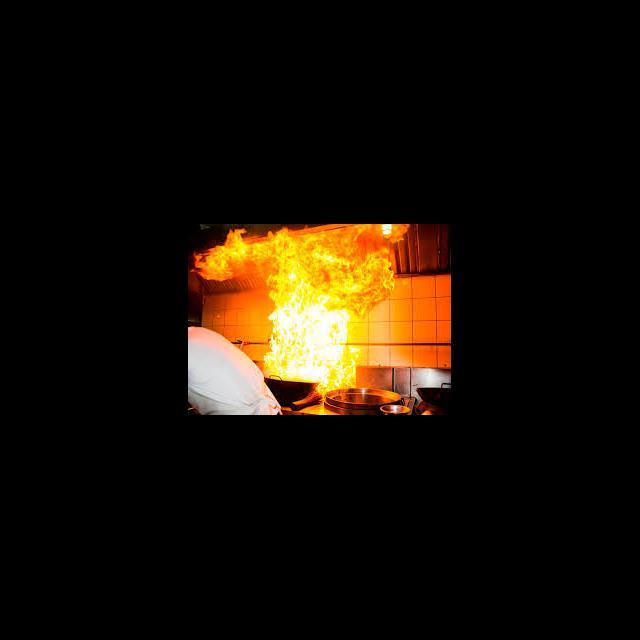Fire: (192, 224, 409, 389)
